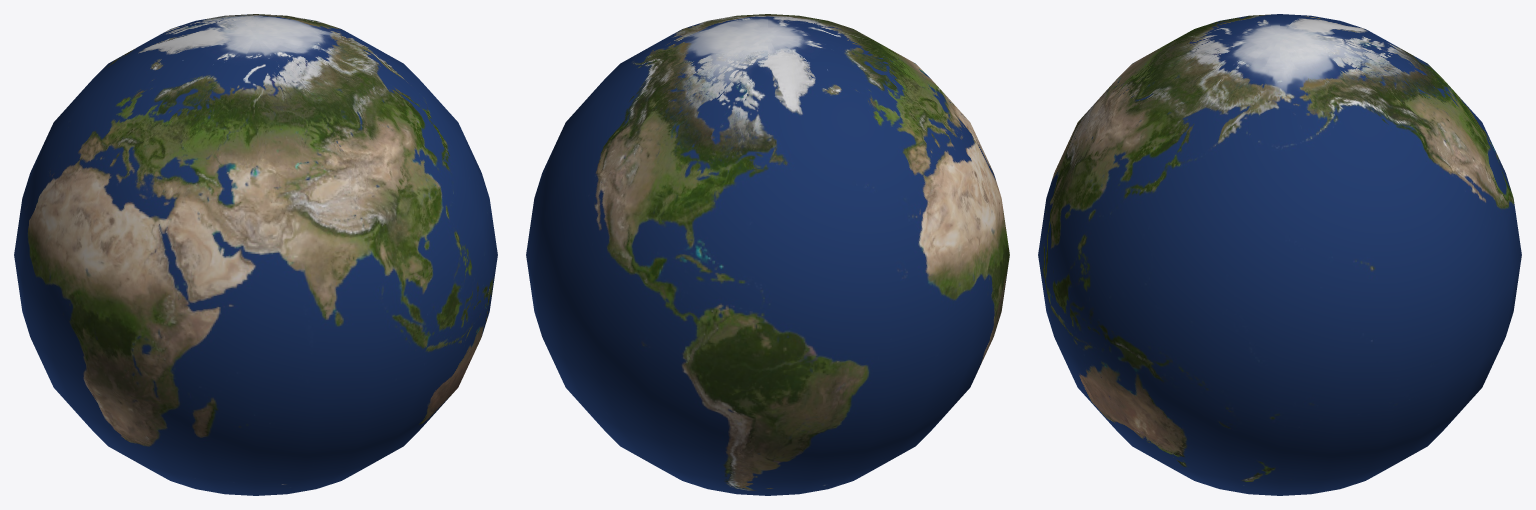
Rendered from EARTH_02.gltf.
3 views of the same model, side by side, from view 1: azimuth 30°, elevation 25°; view 2: azimuth 150°, elevation 25°; view 3: azimuth 270°, elevation 25° (orthographic).
Parts seen in each view (by area): view 1: Sphere.3; view 2: Sphere.3; view 3: Sphere.3.
Boxes of the visible parts, x1,y1,x2,y2 form: Sphere.3: (14, 14, 497, 495); Sphere.3: (526, 14, 1009, 495); Sphere.3: (1038, 14, 1521, 495).
Size of the model in its own units: 73.48 by 73.48 by 73.48.
1 material, 1 textured.
